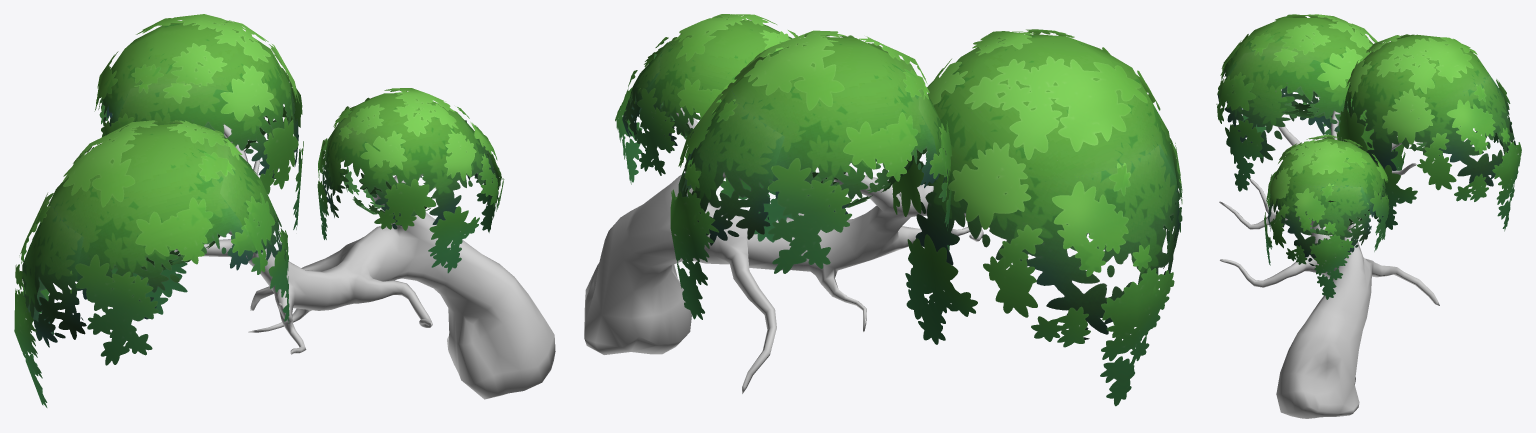
Rendered from Tree_1.fbx.
The picture shows the model from 3 angles, left to right: view 1: azimuth 30°, elevation 25°; view 2: azimuth 150°, elevation 25°; view 3: azimuth 270°, elevation 25°; orthographic projection. The views are drawn at different scales.
Parts seen in each view (by area): view 1: pCube13; view 2: pCube13; view 3: pCube13.
Part boxes in pixels (<box>): pCube13: <box>14,14,555,407</box>; pCube13: <box>584,14,1182,406</box>; pCube13: <box>1216,14,1521,418</box>.
Bounding box in the file's own units: 32.04 × 22.09 × 21.32.
